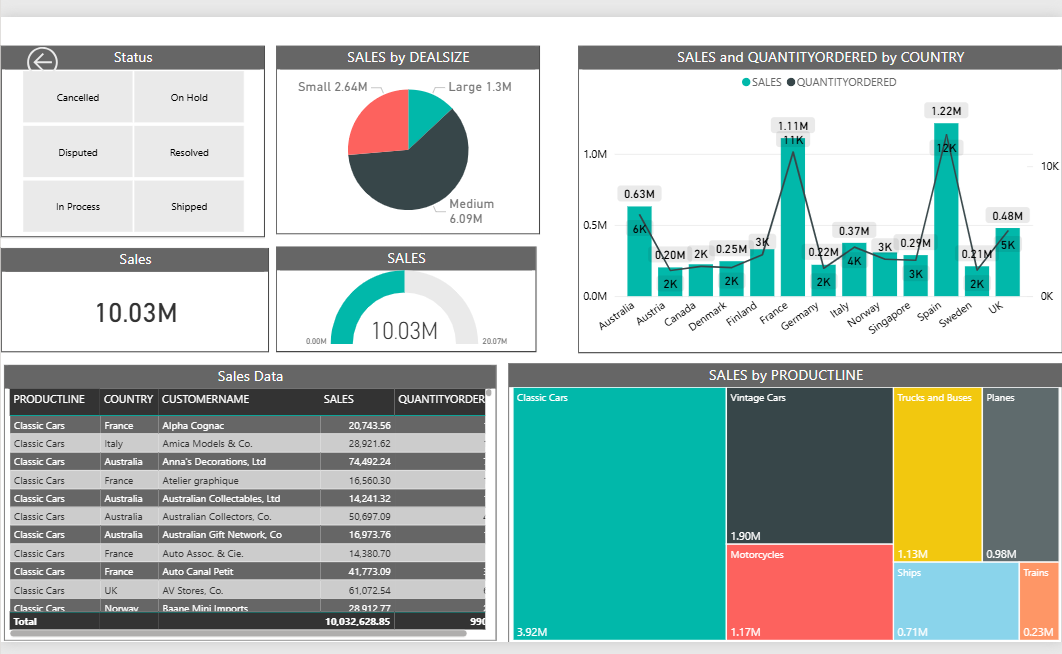

The dashboard page shown, as its layout file describes it:
{"tool":"powerbi","page":{"name":"Page 1","canvas":[1280,720],"ordinal":0},"visuals":[{"type":"lineClusteredColumnComboChart","fields":{"Category":["sales_data_sample.COUNTRY"],"Y":["Sum(sales_data_sample.SALES)"],"Y2":["Sum(sales_data_sample.QUANTITYORDERED)"]},"box":[696.1,0,583.9,370.3],"z":1},{"type":"treemap","fields":{"Group":["sales_data_sample.PRODUCTLINE"],"Values":["Sum(sales_data_sample.SALES)"]},"box":[611.7,382.3,668.3,338.4],"z":2},{"type":"pieChart","fields":{"Y":["Sum(sales_data_sample.SALES)"],"Category":["sales_data_sample.DEALSIZE"]},"box":[331.2,0,317.6,227.1],"z":3},{"type":"gauge","fields":{"Y":["Sum(sales_data_sample.SALES)"]},"box":[331.2,241.9,313.6,127.1],"z":4},{"type":"tableEx","fields":{"Values":["sales_data_sample.PRODUCTLINE","sales_data_sample.COUNTRY","sales_data_sample.CUSTOMERNAME","Sum(sales_data_sample.SALES)","Sum(sales_data_sample.QUANTITYORDERED)"]},"box":[2.7,385.2,593.4,332.5],"z":5},{"type":"card","fields":{"Values":["Sum(sales_data_sample.SALES)"]},"box":[0,244.6,323,125.7],"z":6},{"type":"slicer","fields":{"Values":["sales_data_sample.STATUS"]},"box":[0,0,317.6,231.1],"z":7},{"type":"basicShape","box":[0,0,100,40],"z":8}]}

Visuals, with their boxes in screenshot pixels (x1, y1, x2, y2):
lineClusteredColumnComboChart - sales_data_sample.COUNTRY x Sum(sales_data_sample.SALES): 575/44/1053/347
treemap - sales_data_sample.PRODUCTLINE x Sum(sales_data_sample.SALES): 506/357/1053/634
pieChart - Sum(sales_data_sample.SALES) x sales_data_sample.DEALSIZE: 277/44/536/230
gauge - Sum(sales_data_sample.SALES): 277/242/533/346
tableEx - sales_data_sample.PRODUCTLINE x sales_data_sample.COUNTRY: 8/359/493/631
card - Sum(sales_data_sample.SALES): 6/244/270/347
slicer - sales_data_sample.STATUS: 6/44/265/233
basicShape: 6/44/87/77
